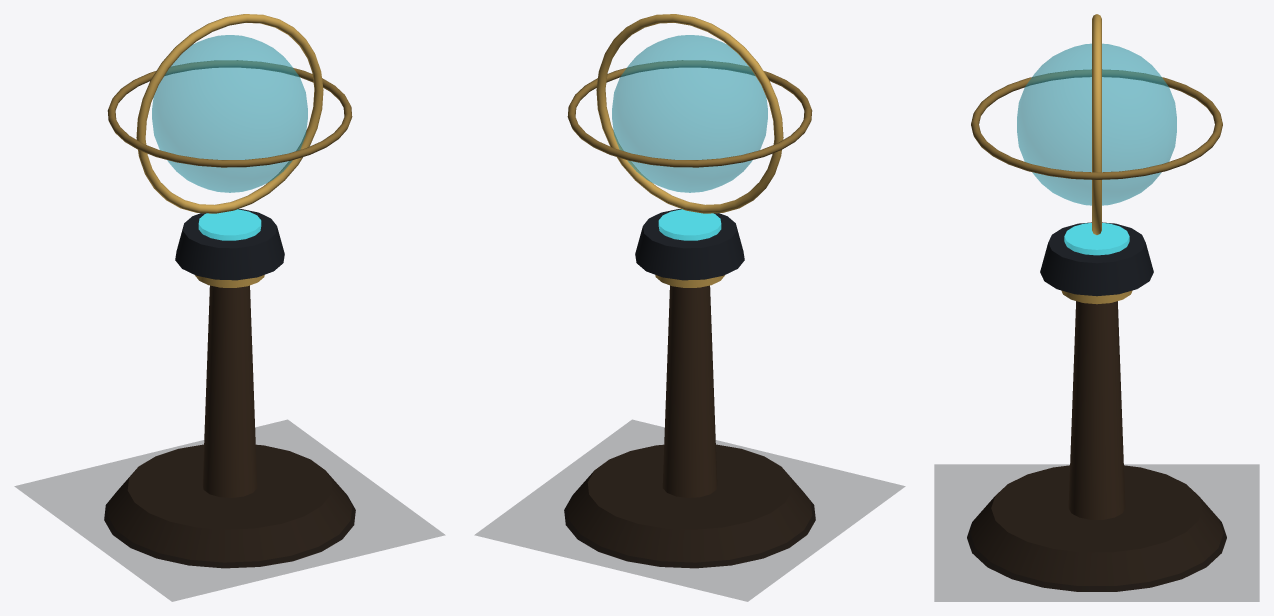
File: hp_room_desire_holo_globe.glb
3 renders of one model, left to right at view 1: azimuth 30°, elevation 25°; view 2: azimuth 150°, elevation 25°; view 3: azimuth 270°, elevation 25°, orthographic. The views are drawn at different scales.
Visible parts, largest first — view 1: base, contact_shadow, globe_core, stem, meridian_ring, emitter, equator_ring, emitter_lens; view 2: base, contact_shadow, globe_core, stem, meridian_ring, emitter, equator_ring, emitter_lens; view 3: base, contact_shadow, globe_core, stem, emitter, equator_ring, meridian_ring, emitter_lens, collar.
Part boxes in pixels (x1,y1,x2,y2): base: [104, 444, 355, 568]; contact_shadow: [15, 420, 444, 601]; globe_core: [152, 35, 307, 192]; stem: [202, 285, 257, 497]; meridian_ring: [136, 14, 323, 213]; emitter: [175, 209, 284, 280]; equator_ring: [107, 60, 352, 167]; emitter_lens: [198, 209, 261, 240]; base: [564, 444, 815, 568]; contact_shadow: [475, 420, 904, 601]; globe_core: [612, 35, 767, 192]; stem: [662, 285, 717, 497]; meridian_ring: [596, 14, 783, 213]; emitter: [635, 209, 744, 280]; equator_ring: [567, 60, 812, 167]; emitter_lens: [658, 209, 721, 240]; base: [967, 465, 1226, 591]; contact_shadow: [934, 464, 1259, 601]; globe_core: [1017, 43, 1176, 205]; stem: [1068, 301, 1125, 519]; emitter: [1040, 222, 1153, 296]; equator_ring: [971, 69, 1222, 179]; meridian_ring: [1092, 14, 1101, 234]; emitter_lens: [1064, 223, 1129, 255]; collar: [1061, 290, 1132, 304].
Bounding box in the file's own units: 0.8 × 1.39 × 0.8.
